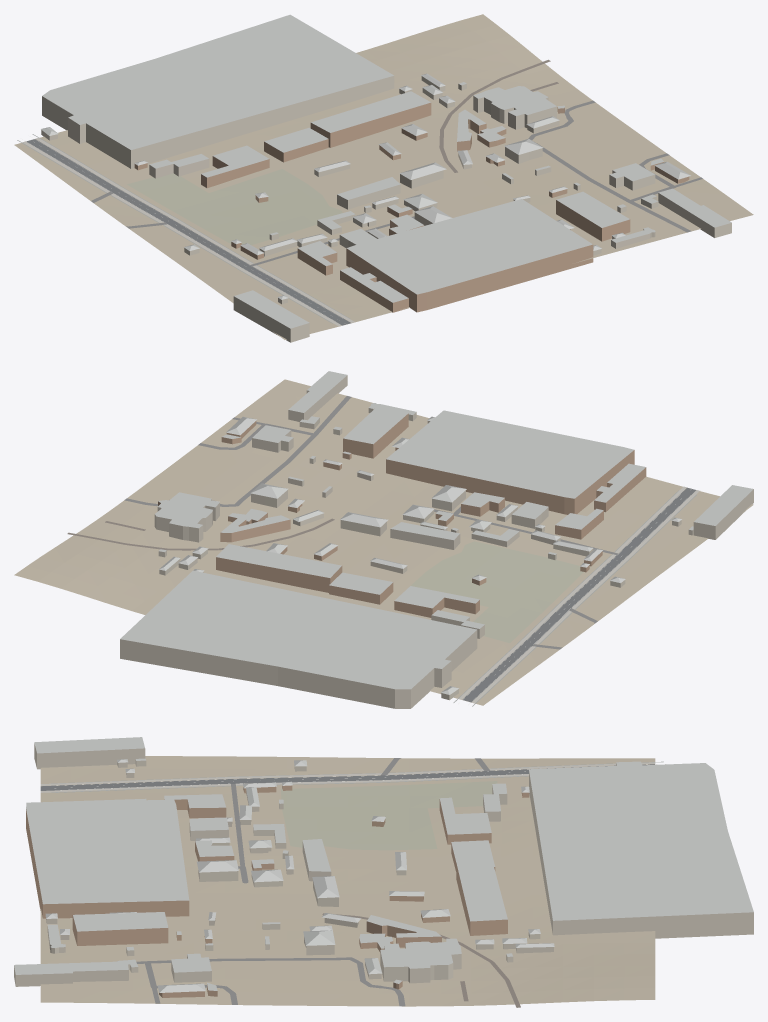
File: bolak_-15_-5.glb
The picture shows the model from 3 angles, top to bottom: view 1: azimuth 30°, elevation 25°; view 2: azimuth 150°, elevation 25°; view 3: azimuth 270°, elevation 25°; orthographic projection. The views are drawn at different scales.
Parts seen in each view (by area): view 1: Yer_Tuproq-col, Tom_Shifer, Devor_Suvoq-col, Devor_Gisht-col, Yer_Qabr, Yol_Asfalt-col, Trotuar, Yol_Mahalla-col, Ariq, Temir_Yol; view 2: Yer_Tuproq-col, Tom_Shifer, Devor_Suvoq-col, Devor_Gisht-col, Yer_Qabr, Yol_Asfalt-col, Trotuar, Yol_Mahalla-col, Temir_Yol, Ariq; view 3: Yer_Tuproq-col, Tom_Shifer, Devor_Suvoq-col, Yer_Qabr, Devor_Gisht-col, Yol_Asfalt-col, Trotuar, Yol_Mahalla-col, Ariq, Temir_Yol.
Boxes of the visible parts, <box> form: Yer_Tuproq-col: <box>14,14,753,339</box>; Tom_Shifer: <box>41,14,731,328</box>; Devor_Suvoq-col: <box>41,76,731,342</box>; Devor_Gisht-col: <box>134,102,689,312</box>; Yer_Qabr: <box>127,169,342,248</box>; Yol_Asfalt-col: <box>26,139,351,325</box>; Trotuar: <box>22,138,354,326</box>; Yol_Mahalla-col: <box>91,100,702,266</box>; Ariq: <box>17,134,349,323</box>; Temir_Yol: <box>439,59,558,172</box>; Yer_Tuproq-col: <box>14,379,753,705</box>; Tom_Shifer: <box>120,371,753,694</box>; Devor_Suvoq-col: <box>120,375,753,708</box>; Devor_Gisht-col: <box>158,413,646,617</box>; Yer_Qabr: <box>409,541,583,643</box>; Yol_Asfalt-col: <box>462,487,695,702</box>; Trotuar: <box>459,486,699,702</box>; Yol_Mahalla-col: <box>124,396,617,649</box>; Temir_Yol: <box>67,518,334,550</box>; Ariq: <box>453,490,696,706</box>; Yer_Tuproq-col: <box>40,756,655,1006</box>; Tom_Shifer: <box>14,737,753,992</box>; Devor_Suvoq-col: <box>14,743,753,986</box>; Yer_Qabr: <box>280,781,497,850</box>; Devor_Gisht-col: <box>26,785,529,997</box>; Yol_Asfalt-col: <box>40,764,654,790</box>; Trotuar: <box>40,762,655,792</box>; Yol_Mahalla-col: <box>136,758,490,1006</box>; Ariq: <box>51,761,663,792</box>; Temir_Yol: <box>322,913,520,1007</box>.
Size of what is drawn, in the model's own units: 411 by 19.48 by 482.
